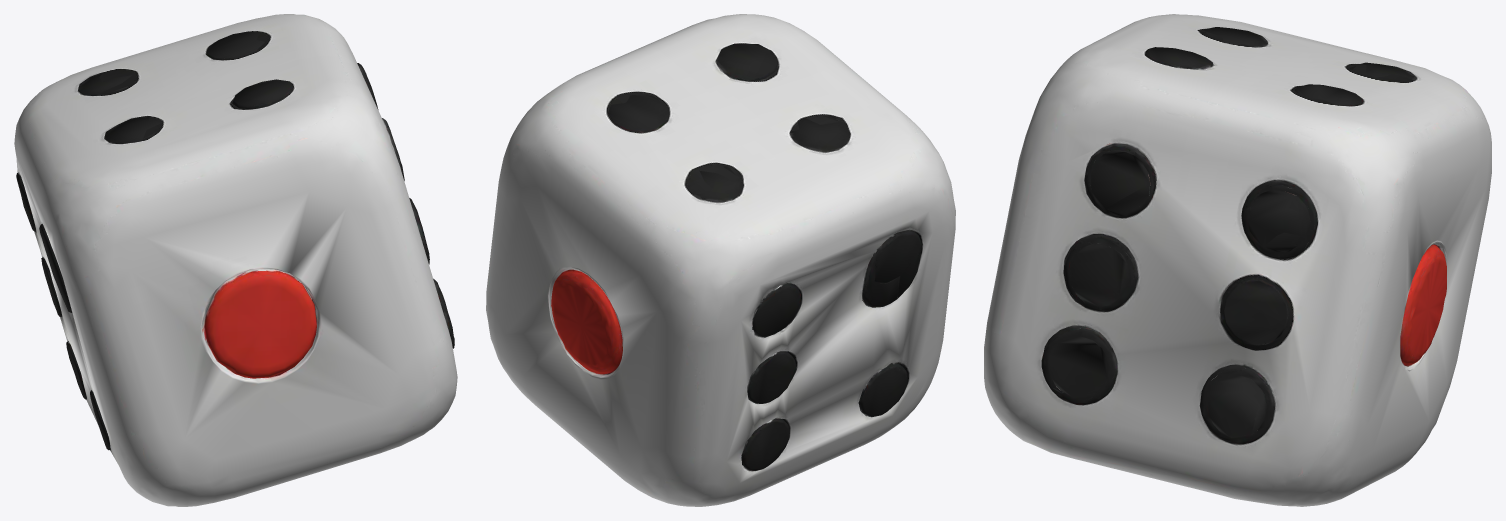
File: dice.glb
The picture shows the model from 3 angles, left to right: view 1: azimuth 30°, elevation 25°; view 2: azimuth 150°, elevation 25°; view 3: azimuth 270°, elevation 25°; orthographic projection. The views are drawn at different scales.
Visible parts, largest first — view 1: tripo_node_8474210e-6a2d-4972-a1f4-c6ff9f23a031; view 2: tripo_node_8474210e-6a2d-4972-a1f4-c6ff9f23a031; view 3: tripo_node_8474210e-6a2d-4972-a1f4-c6ff9f23a031.
Boxes of the visible parts, x1,y1,x2,y2 form: tripo_node_8474210e-6a2d-4972-a1f4-c6ff9f23a031: (14,14,457,506); tripo_node_8474210e-6a2d-4972-a1f4-c6ff9f23a031: (486,14,955,506); tripo_node_8474210e-6a2d-4972-a1f4-c6ff9f23a031: (984,14,1491,506).
Size of the model in its own units: 0.998 by 0.9355 by 0.998.
1 material, 1 textured.
